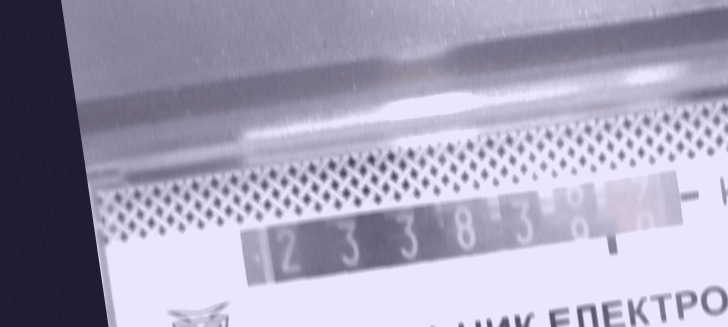0: (629, 206, 658, 234)
2: (269, 224, 304, 276)
3: (330, 217, 364, 270), (391, 210, 422, 263), (505, 195, 537, 246)
8: (447, 203, 478, 252), (558, 181, 589, 211)
9: (562, 211, 593, 244), (624, 171, 653, 202)
screen: (224, 153, 704, 312)
